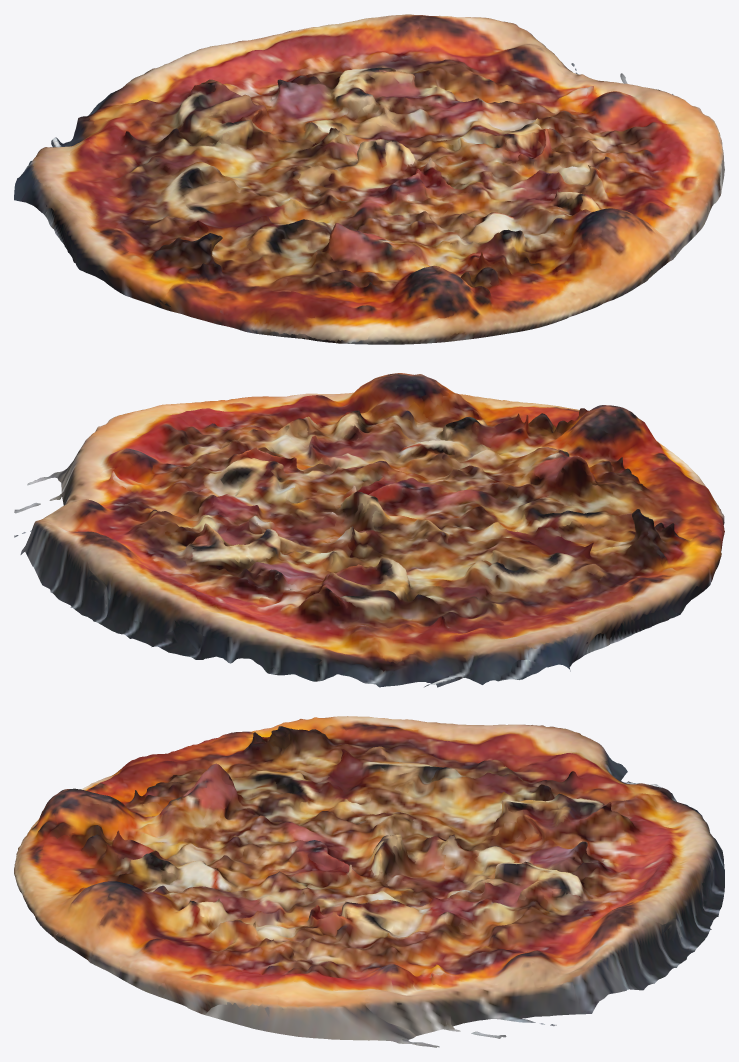
Rendered from pizza02_2.glb.
3 views of the same model, one above another, from view 1: azimuth 30°, elevation 25°; view 2: azimuth 150°, elevation 25°; view 3: azimuth 270°, elevation 25° (orthographic). The views are drawn at different scales.
Parts seen in each view (by area): view 1: Object_3, Object_2, Object_4; view 2: Object_3, Object_2, Object_4; view 3: Object_3, Object_2, Object_4.
Part boxes in pixels (left/top/right/bottom): Object_3: left=29, top=15, right=722, bottom=343; Object_2: left=14, top=20, right=723, bottom=344; Object_4: left=17, top=14, right=724, bottom=333; Object_3: left=20, top=373, right=720, bottom=667; Object_2: left=14, top=373, right=723, bottom=687; Object_4: left=14, top=396, right=724, bottom=687; Object_3: left=33, top=716, right=724, bottom=1047; Object_2: left=14, top=725, right=724, bottom=1047; Object_4: left=59, top=722, right=713, bottom=1038.
Size of the model in its own units: 0.3257 by 0.0287 by 0.3052.
1 material, 1 textured.
